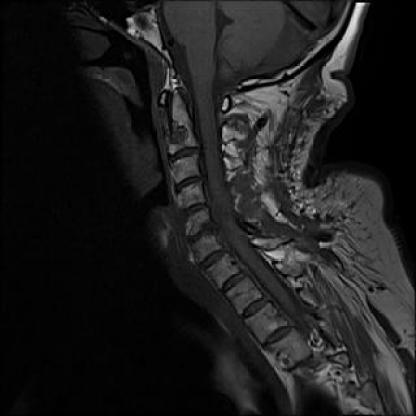Disc Protrusionrotation: (184, 223, 224, 243), (195, 250, 231, 267), (178, 200, 211, 216), (173, 175, 205, 189)
Osteophytesrotation: (184, 223, 224, 243), (173, 175, 205, 189)
